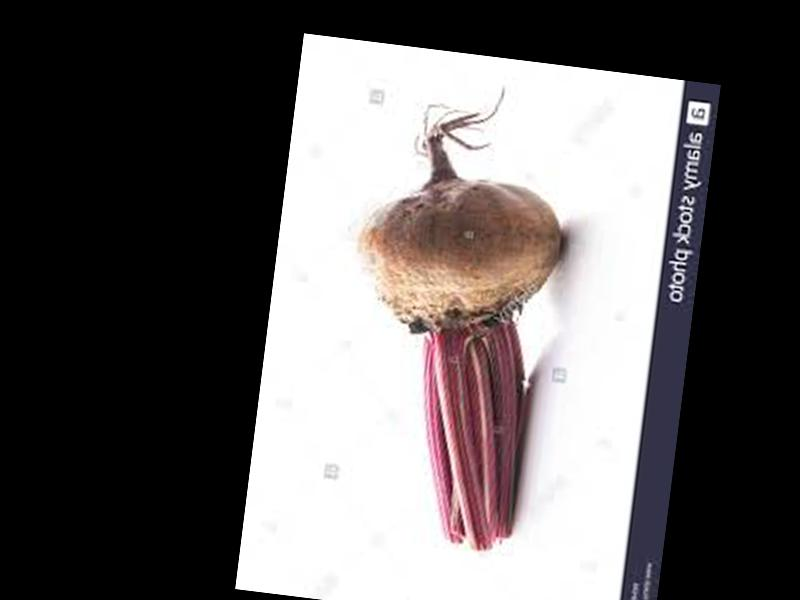Beet: (323, 72, 580, 556)
